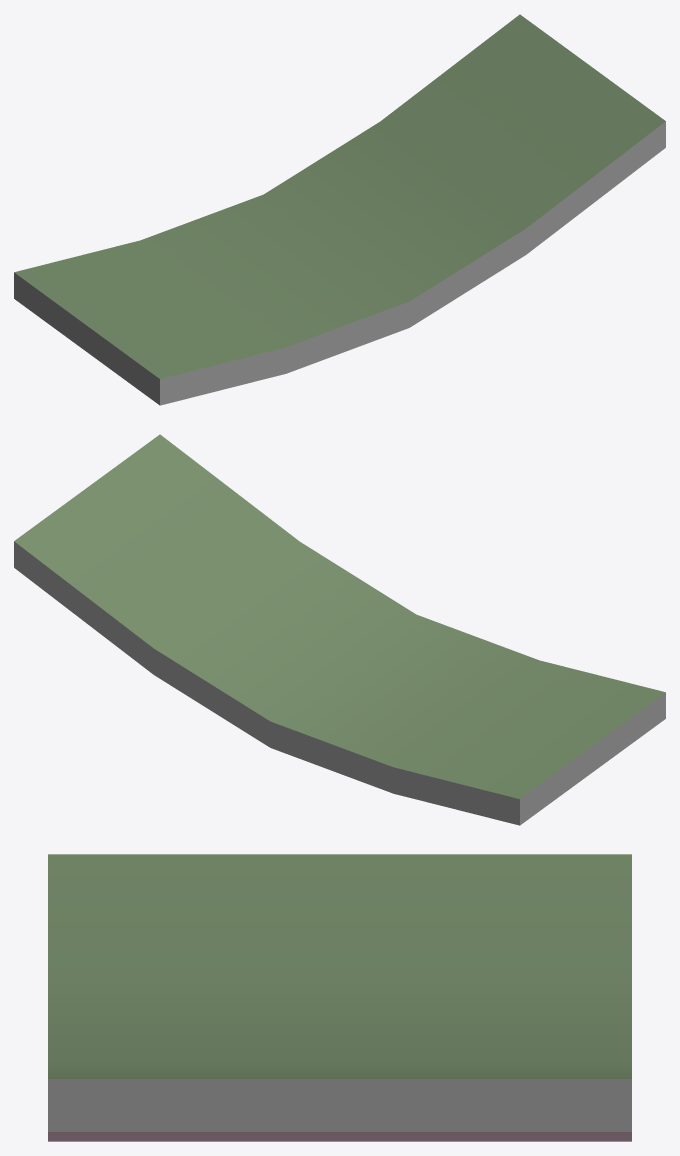
The model's file is curlingpCube550.fbx.
3 renders of one model, top to bottom at view 1: azimuth 30°, elevation 25°; view 2: azimuth 150°, elevation 25°; view 3: azimuth 270°, elevation 25°, orthographic. The views are drawn at different scales.
Visible parts, largest first — view 1: pCube550; view 2: pCube550; view 3: pCube550.
Boxes of the visible parts, box(x1,y1,x2,y2) form: pCube550: box(14, 14, 665, 405); pCube550: box(14, 434, 665, 825); pCube550: box(48, 854, 631, 1141).
Bounding box in the file's own units: 200 × 60.82 × 100.
